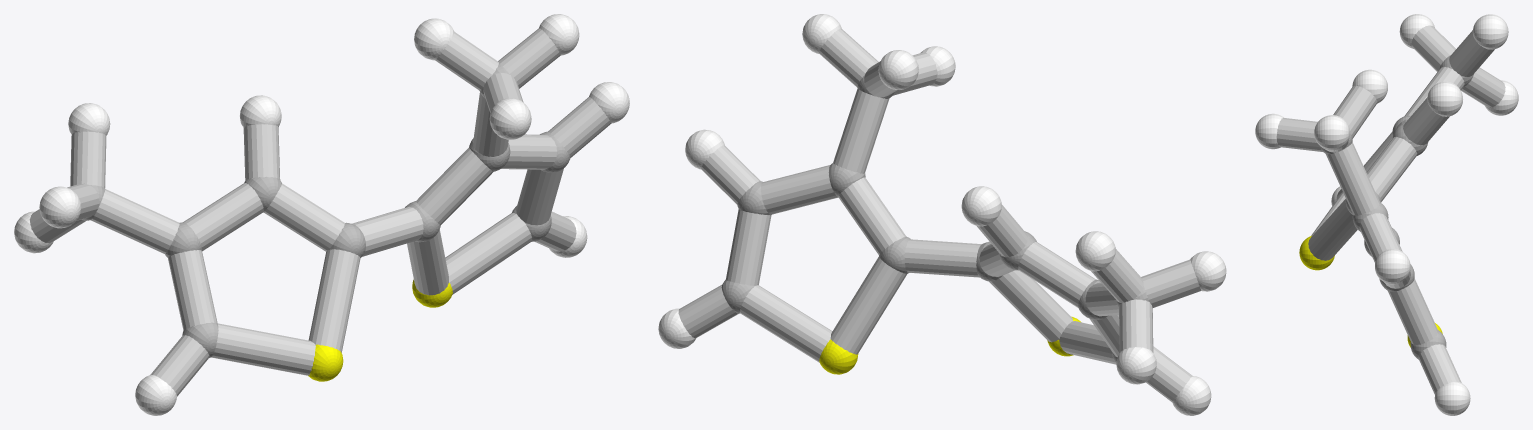
The model's file is Methylthiophene_Phi_25_Theta_240_Methylthiophene.glb.
The picture shows the model from 3 angles, left to right: view 1: azimuth 30°, elevation 25°; view 2: azimuth 150°, elevation 25°; view 3: azimuth 270°, elevation 25°; orthographic projection. The views are drawn at different scales.
Visible parts, largest first — view 1: grp7965, grp3621, grp1, grp7241; view 2: grp7965, grp3621, grp1, grp7241; view 3: grp7965, grp3621, grp1, grp7241.
Boxes of the visible parts, x1,y1,x2,y2 form: grp7965: (29, 28, 611, 396); grp3621: (14, 14, 629, 415); grp1: (82, 63, 570, 357); grp7241: (308, 279, 452, 381); grp7965: (678, 28, 1201, 401); grp3621: (658, 14, 1226, 415); grp1: (721, 75, 1149, 363); grp7241: (819, 316, 1080, 374); grp7965: (1276, 25, 1505, 394); grp3621: (1255, 14, 1518, 415); grp1: (1321, 55, 1473, 359); grp7241: (1299, 236, 1442, 347).
Bounding box in the file's own units: 9.41 × 4.99 × 4.42.
